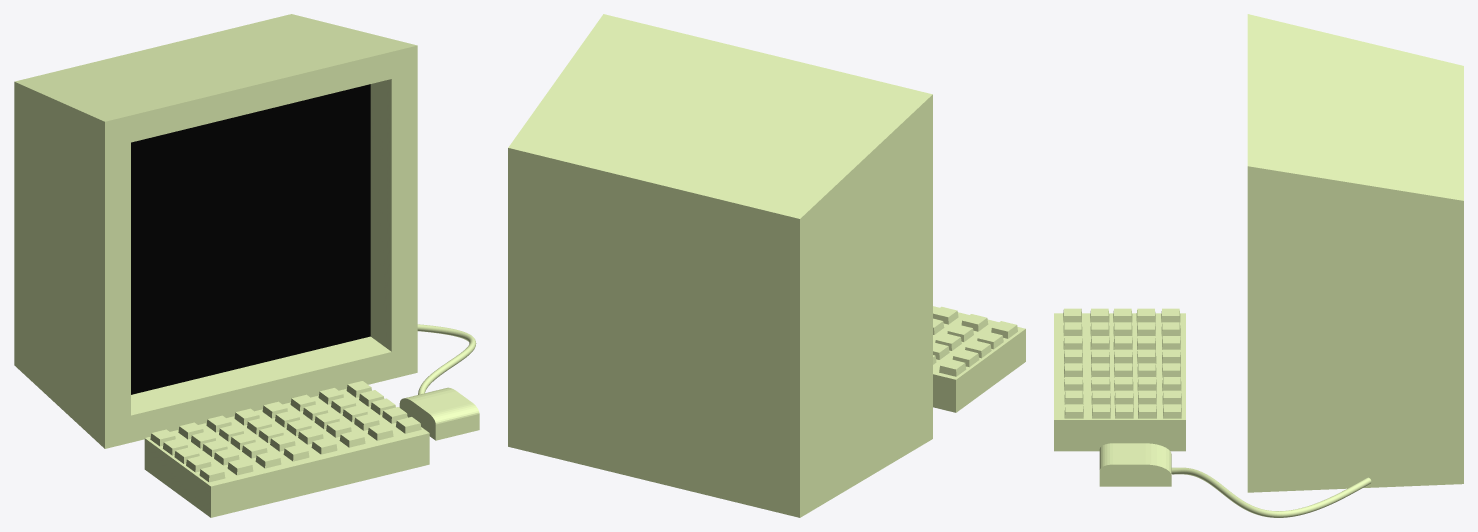
The picture shows the model from 3 angles, left to right: view 1: azimuth 30°, elevation 25°; view 2: azimuth 150°, elevation 25°; view 3: azimuth 270°, elevation 25°; orthographic projection. The views are drawn at different scales.
Visible parts, largest first — view 1: Cube.018; view 2: Cube.018; view 3: Cube.018.
Boxes of the visible parts, x1,y1,x2,y2 form: Cube.018: [14, 14, 479, 517]; Cube.018: [508, 14, 1025, 517]; Cube.018: [1054, 14, 1463, 517].
Bounding box in the file's own units: 0.7133 × 0.5871 × 0.6681.
